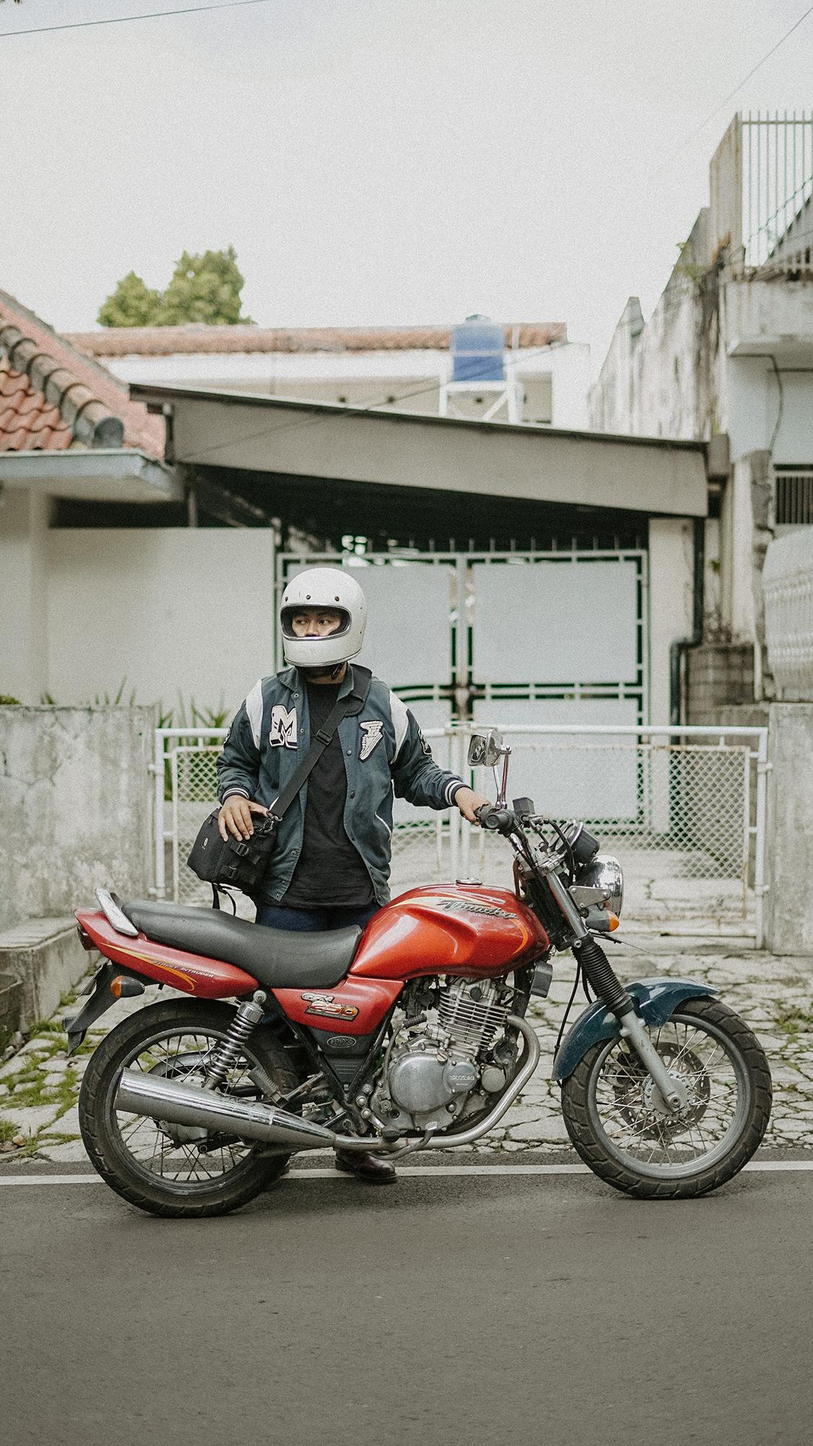helmet: (279, 567, 368, 681)
